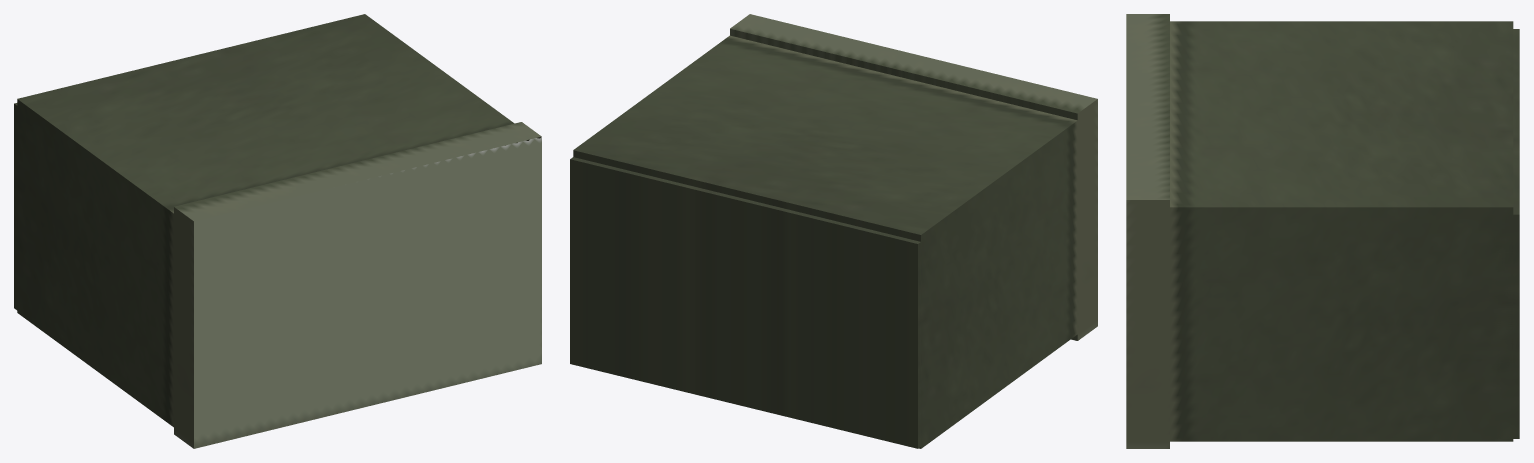
Rendered from pz_counter_green_floor.obj.
3 views of the same model, side by side, from view 1: azimuth 30°, elevation 25°; view 2: azimuth 150°, elevation 25°; view 3: azimuth 270°, elevation 25° (orthographic). The views are drawn at different scales.
Bounding box in the file's own units: 1 × 0.6266 × 0.895.
Materials: 1 (1 with a texture image).
